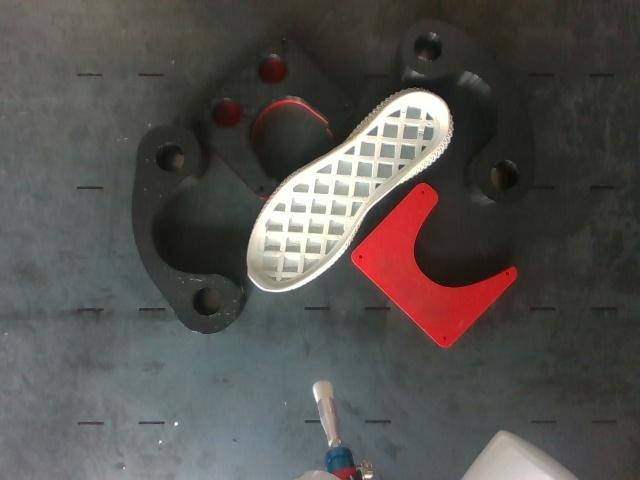shoes: (248, 94, 445, 290)
